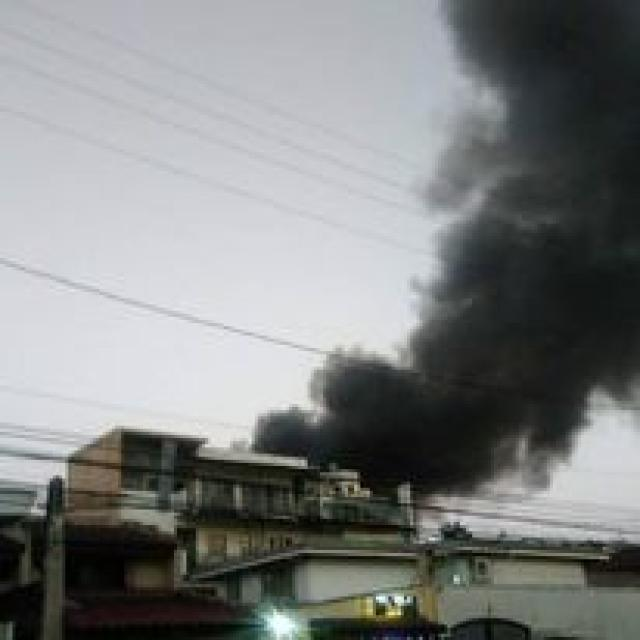Smoke: (242, 0, 636, 506)
